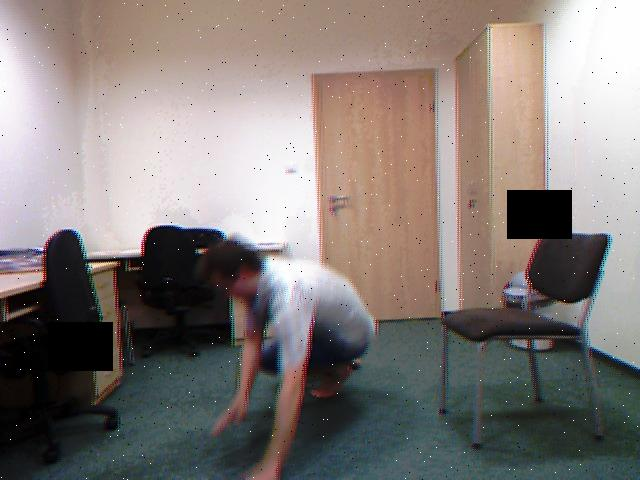fall: (200, 237, 377, 480)
